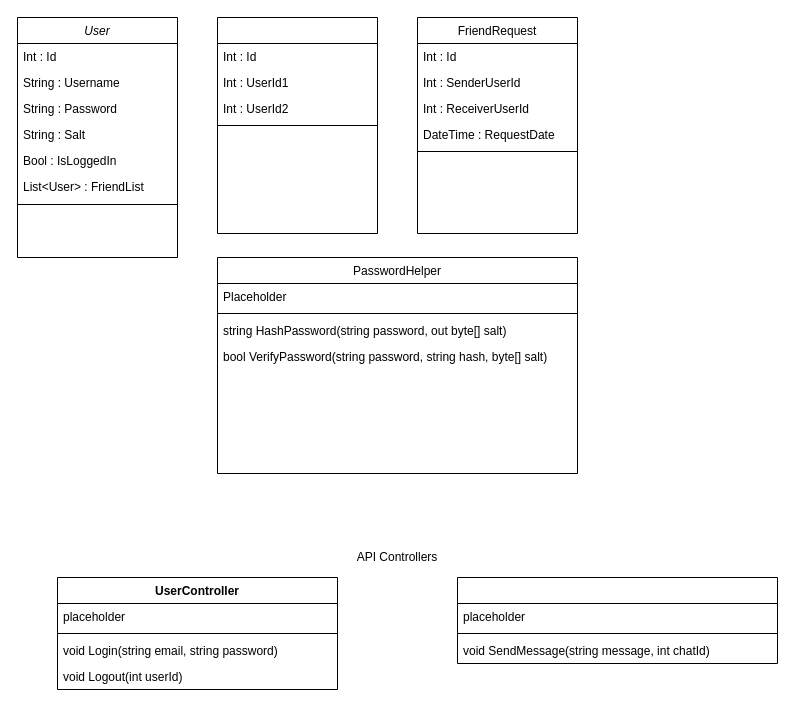
Some shapes in this 795 by 710 pixel diagram are drawn without their labels. The shapes that lost their labels are listed below. From the top down, each one's box as (x1, y1, x2, y2) in pixels, then its label:
(216, 16, 378, 234): Friend
(456, 576, 778, 664): MessageController
